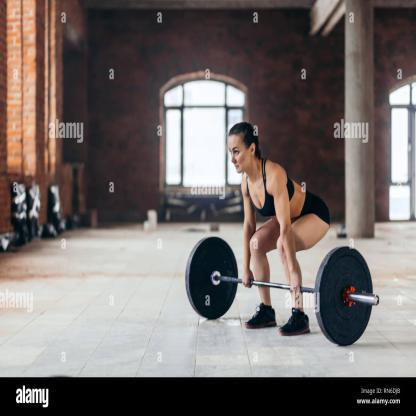Barbell: (312, 243, 381, 350)
